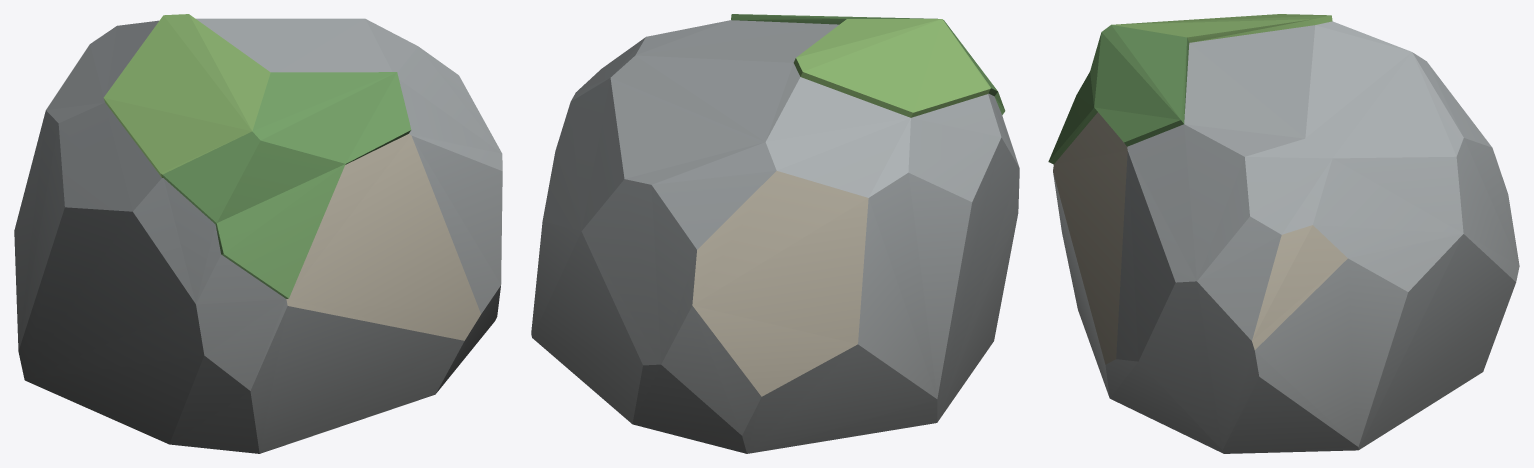
File: rock.glb
3 views of the same model, side by side, from view 1: azimuth 30°, elevation 25°; view 2: azimuth 150°, elevation 25°; view 3: azimuth 270°, elevation 25° (orthographic). The views are drawn at different scales.
Parts seen in each view (by area): view 1: rock; view 2: rock; view 3: rock.
Part boxes in pixels (box(x1,y1,x2,y2)): rock: box(14, 14, 502, 453); rock: box(531, 14, 1019, 453); rock: box(1048, 14, 1519, 453).
Bounding box in the file's own units: 1.68 × 1.22 × 1.65.
